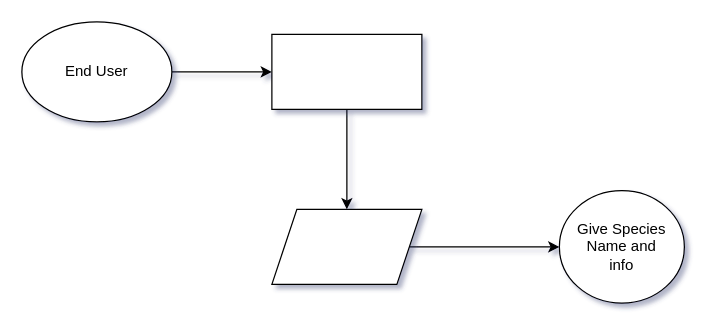
Image size: 714x333. Some labels were removed from this diagram. The shapes that lost their labels are listed below. From the top down, each one's centre as x and y in pixels, then its label:
At point (346, 71): "Drop Image Into WebApp".
At point (346, 246): "AI Identify Species".
